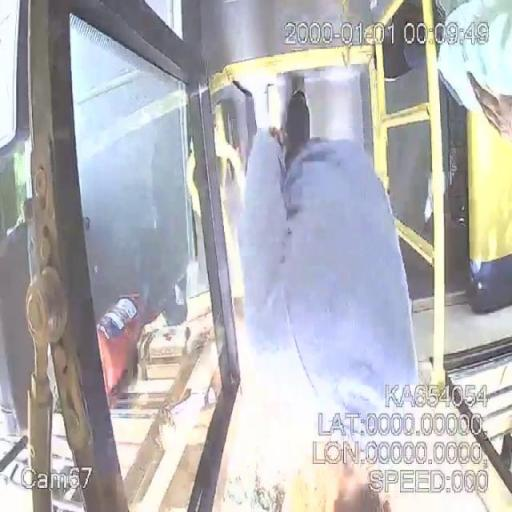persona: (236, 85, 419, 512)
